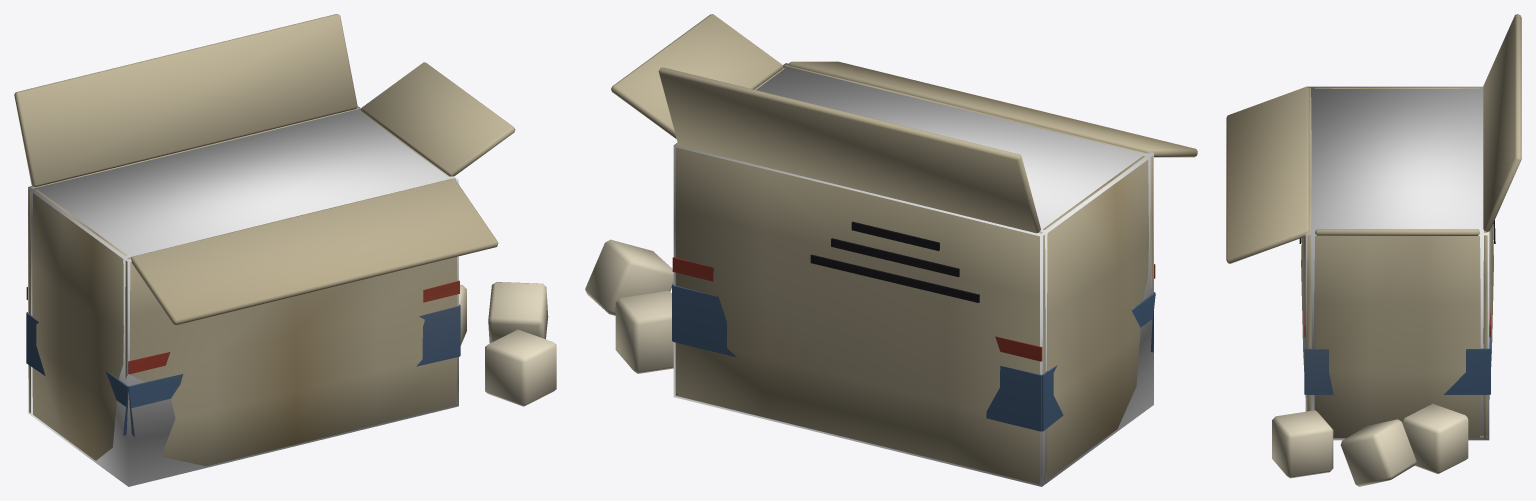
The model's file is azucar.glb.
3 views of the same model, side by side, from view 1: azimuth 30°, elevation 25°; view 2: azimuth 150°, elevation 25°; view 3: azimuth 270°, elevation 25° (orthographic). The views are drawn at different scales.
Parts seen in each view (by area): view 1: caja, caja-colcaja, terrones; view 2: caja, caja-colcaja, terrones; view 3: caja, caja-colcaja, terrones.
Part boxes in pixels (x1,y1,x2,y2): caja: (14,14,515,466); caja-colcaja: (28,106,458,486); terrones: (459,282,556,406); caja: (611,14,1197,484); caja-colcaja: (673,63,1153,486); terrones: (585,239,673,373); caja: (1226,14,1521,438); caja-colcaja: (1305,86,1489,440); terrones: (1272,404,1468,486).
Size of the model in its own units: 0.1558 by 0.0983 by 0.0933.
